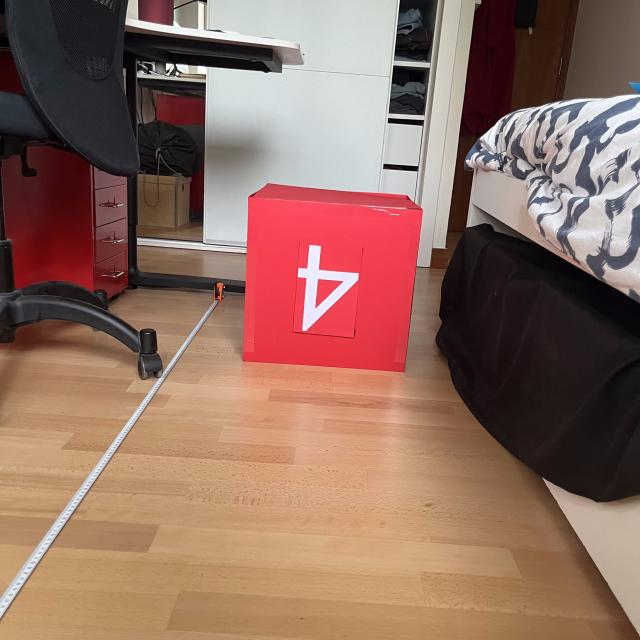box: (238, 178, 425, 375)
